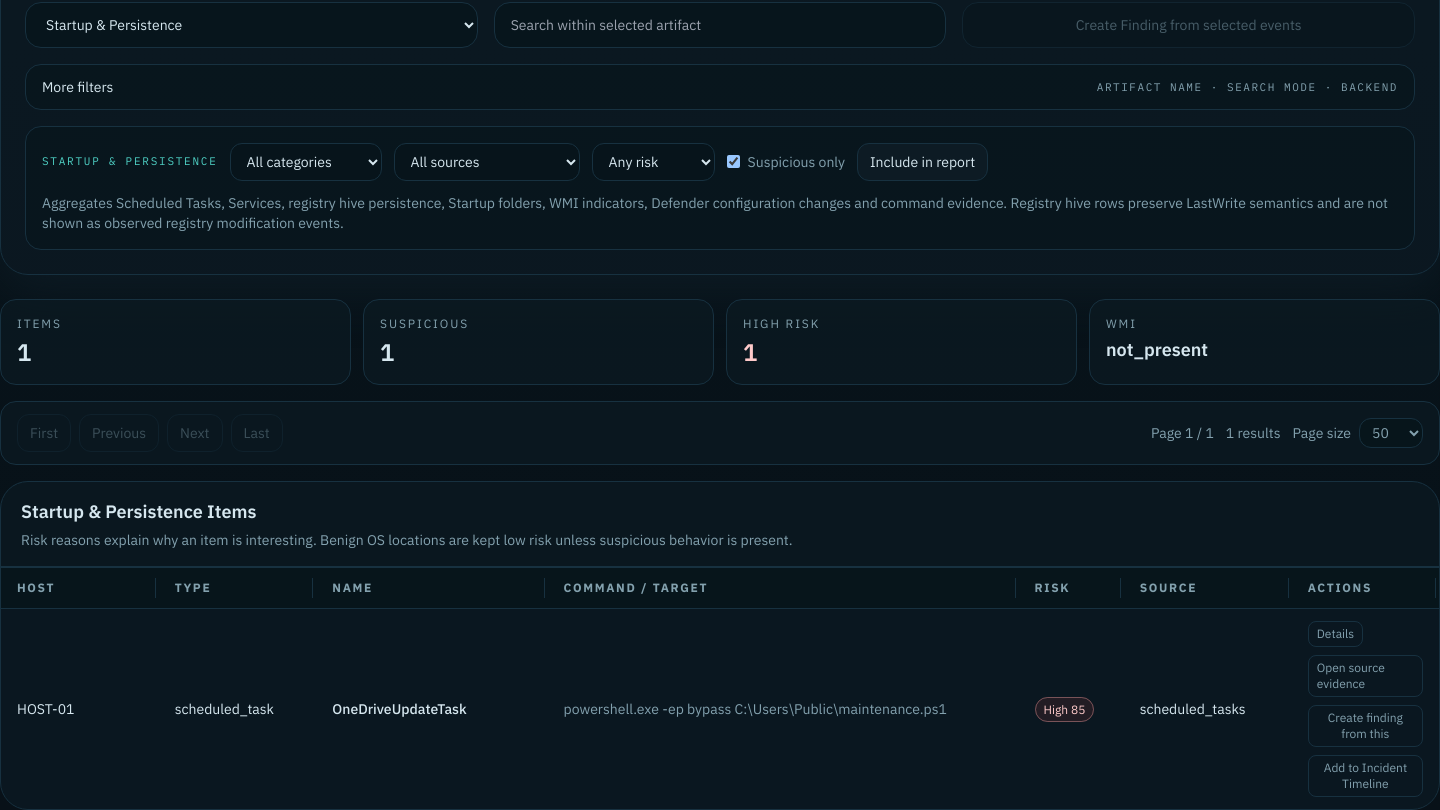
Test: ArtifactExplorer › renders Startup & Persistence filters, risk reasons and actions
(page scrolled)
Expected: the heading "Startup & Persistence Items" is shown, [21,500,256,522]
Expected: the text "OneDriveUpdateTask" is shown, [316,608,548,808]
Click the button "Details" at (1336, 634), box [1308,620,1363,646]
(page scrolled)
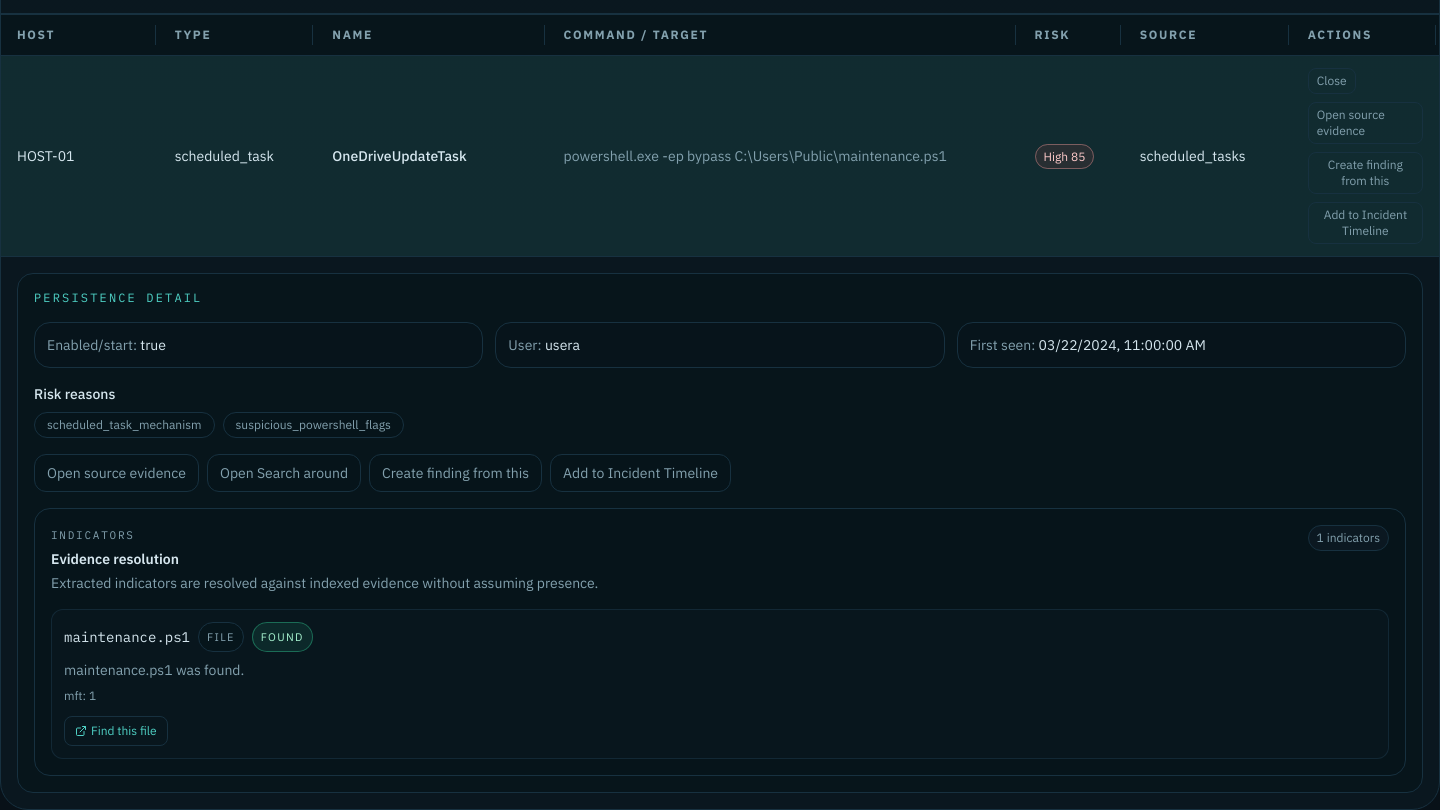
Expected: the text "Persistence detail" is shown, [34,290,202,304]
Expected: the text "scheduled_task_mechanism" is shown, [34,412,214,438]
Expected: the heading "Evidence resolution" is shown, [51,550,179,568]
